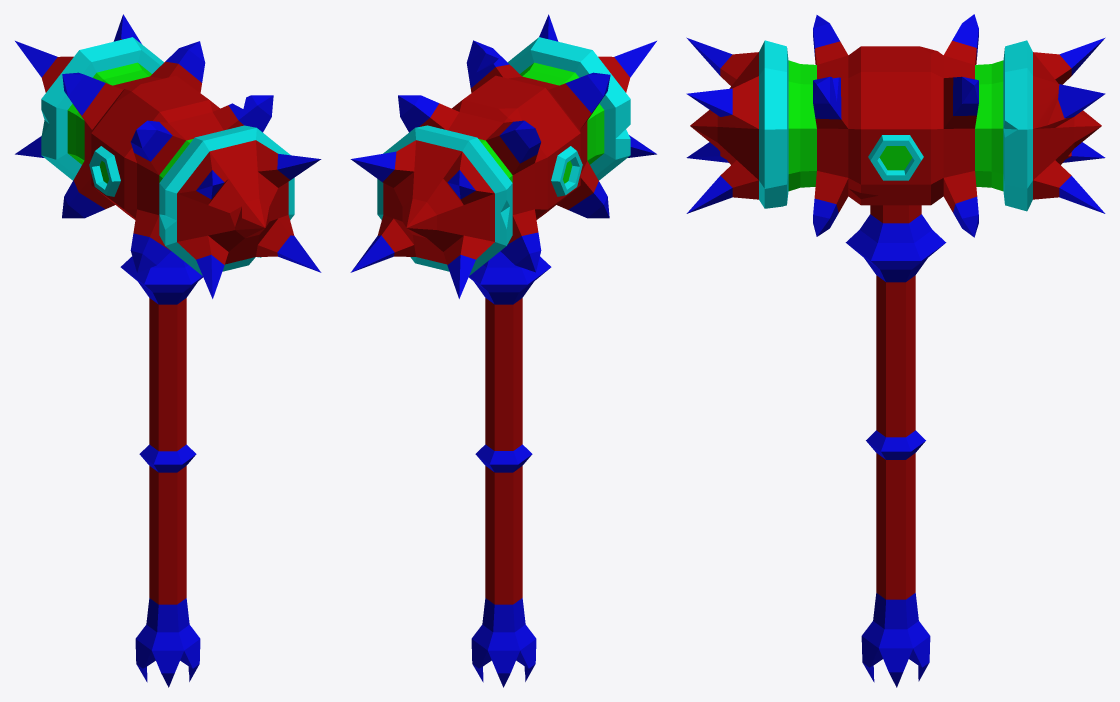
File: Greathammer_Rare_DemonicHammer.fbx
3 renders of one model, left to right at view 1: azimuth 30°, elevation 25°; view 2: azimuth 150°, elevation 25°; view 3: azimuth 270°, elevation 25°, orthographic. The views are drawn at different scales.
Parts seen in each view (by area): view 1: SM_Wep_WarHammer_Large_04; view 2: SM_Wep_WarHammer_Large_04; view 3: SM_Wep_WarHammer_Large_04.
Boxes of the visible parts, x1,y1,x2,y2 form: SM_Wep_WarHammer_Large_04: [15, 14, 321, 687]; SM_Wep_WarHammer_Large_04: [350, 14, 656, 687]; SM_Wep_WarHammer_Large_04: [686, 14, 1105, 687].
Bounding box in the file's own units: 24.36 × 99.89 × 60.51.
